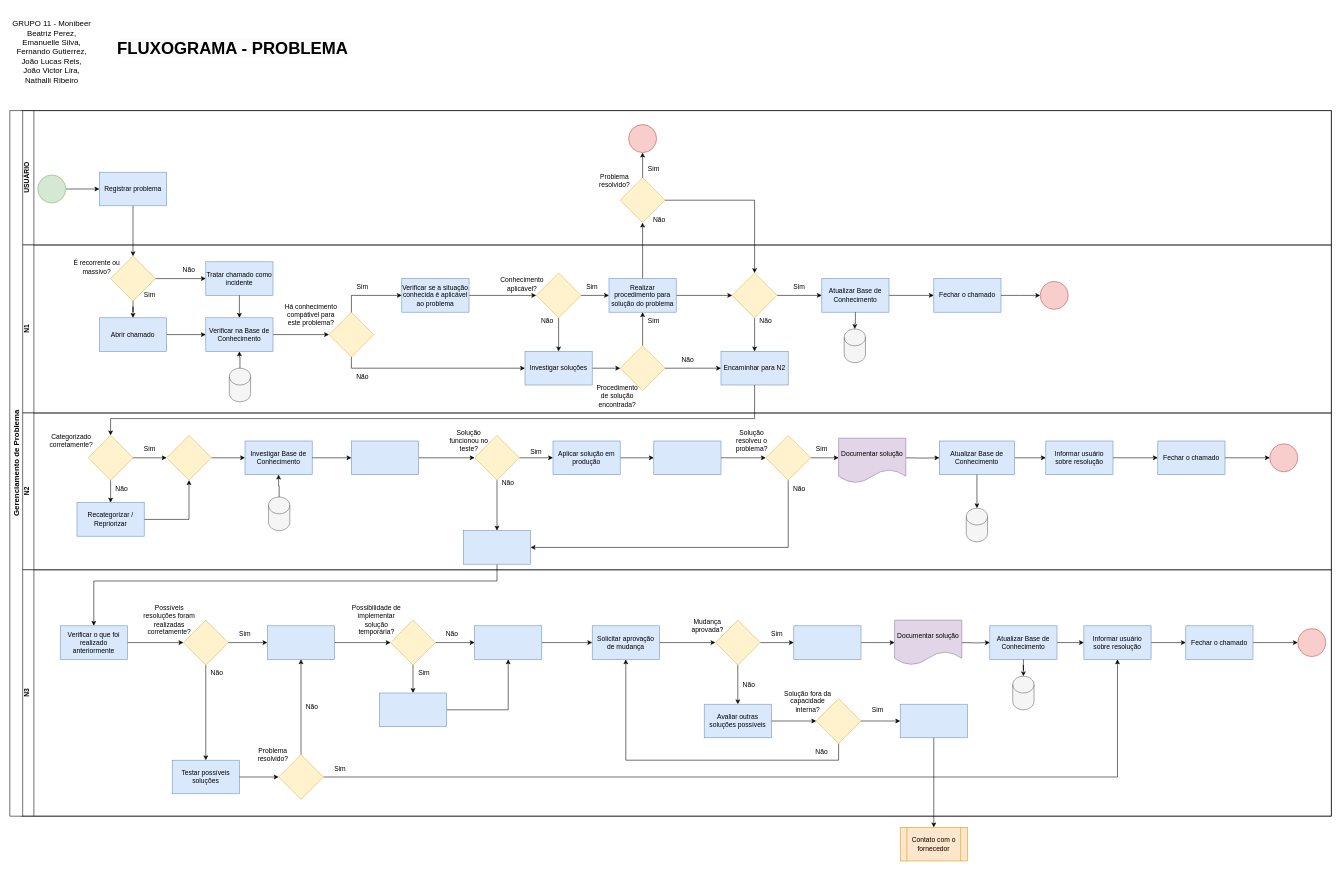
Image size: 1341x871. Some labels were removed from this diagram. The centre of each missing label's shape, as x and y in pixels:
"Contornar impacto com solução temporária" belongs at point 413,709.
"Encaminhar para N3" belongs at point 497,547.
"Escalar para fornecedor" belongs at point 933,721.
"Identificar causa raíz" belongs at point 301,642.
"Implementar mudança para solução do problema" belongs at point 827,642.
"Iniciar processo de mudança" belongs at point 508,642.
"Registrar ações executadas" belongs at point 687,457.
"Testar possíveis soluções em ambiente controlado" belongs at point 385,457.
